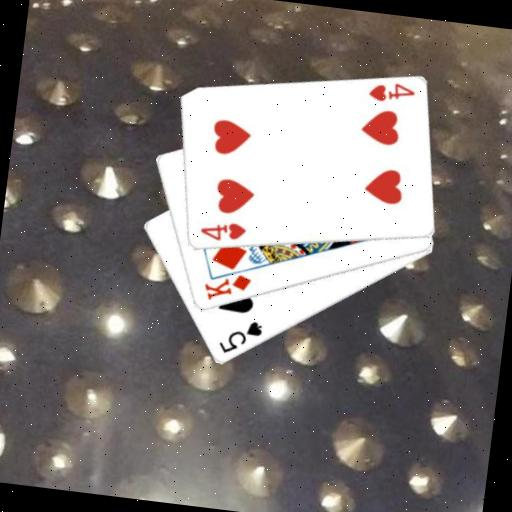4H: (365, 77, 418, 108), (197, 216, 249, 246)
5S: (215, 315, 266, 360)
KD: (199, 268, 254, 307)
